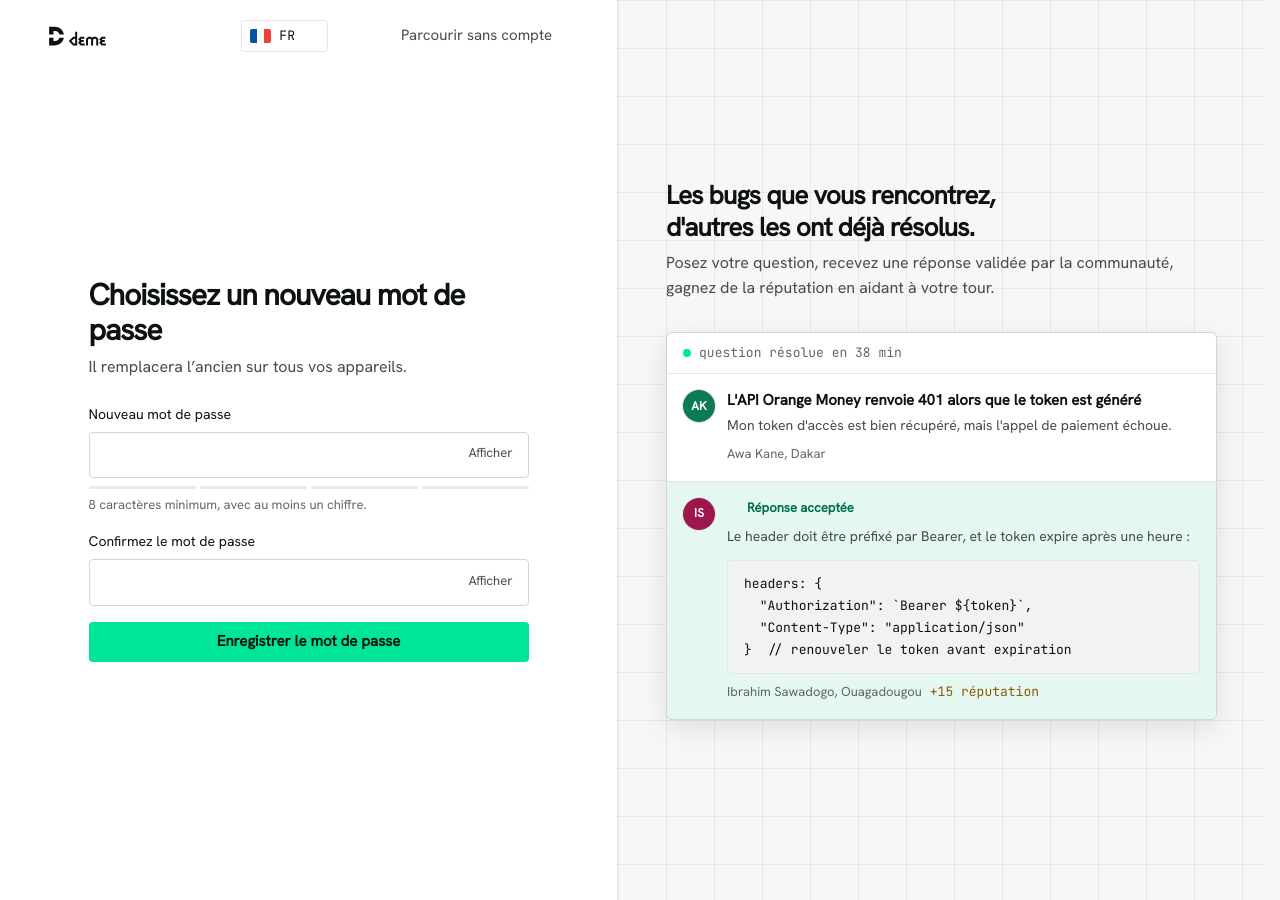
Nouveau mot de passe (AUTH-4) › propose un nouveau lien quand celui-ci a expiré
Type "ouaga2026" into the password field labelled "Nouveau mot de passe".
click(308, 455); type("ouaga2026")  # box [88,432,528,478]
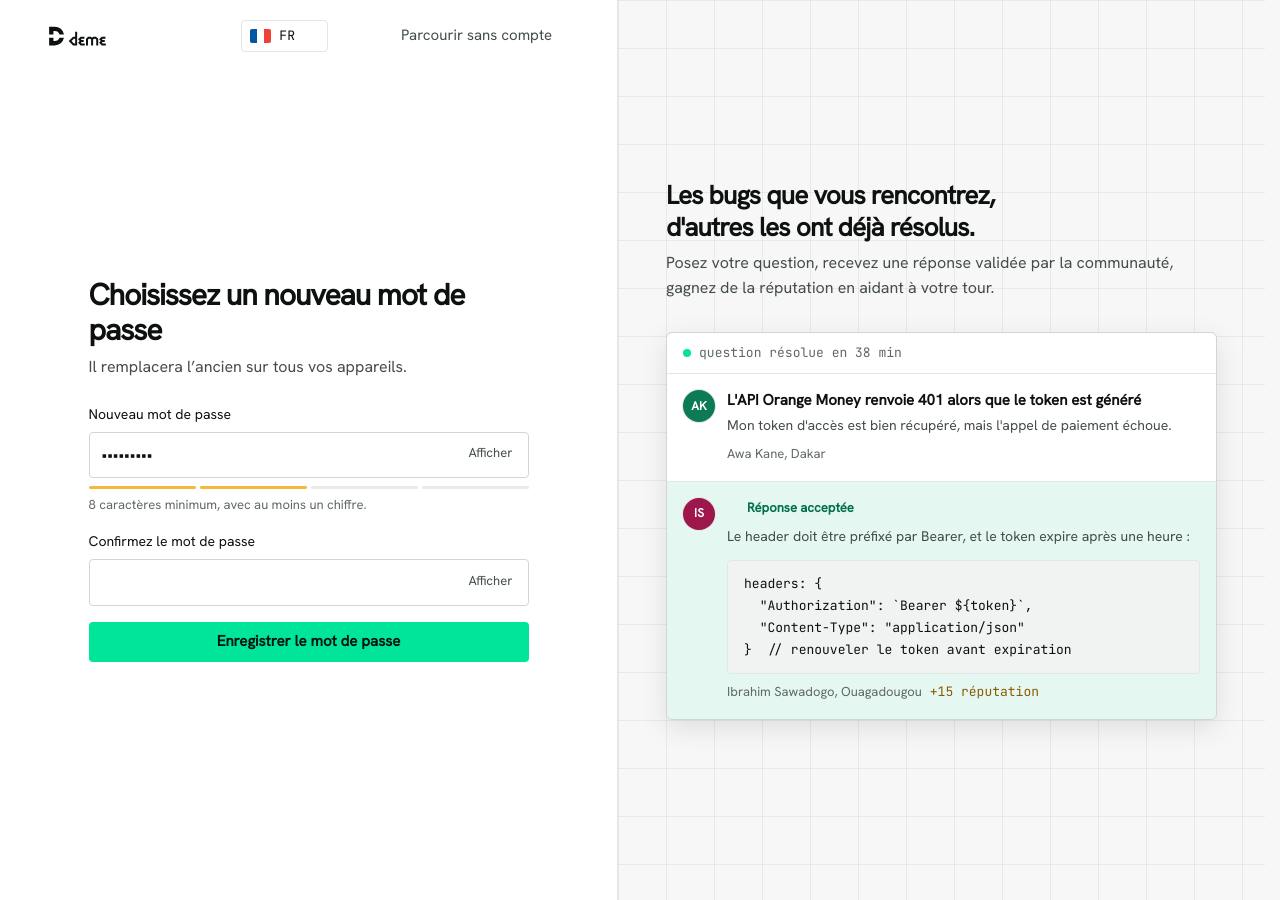
Type "ouaga2026" into the password field labelled "Confirmez le mot de passe".
click(308, 583); type("ouaga2026")  # box [88,559,528,606]
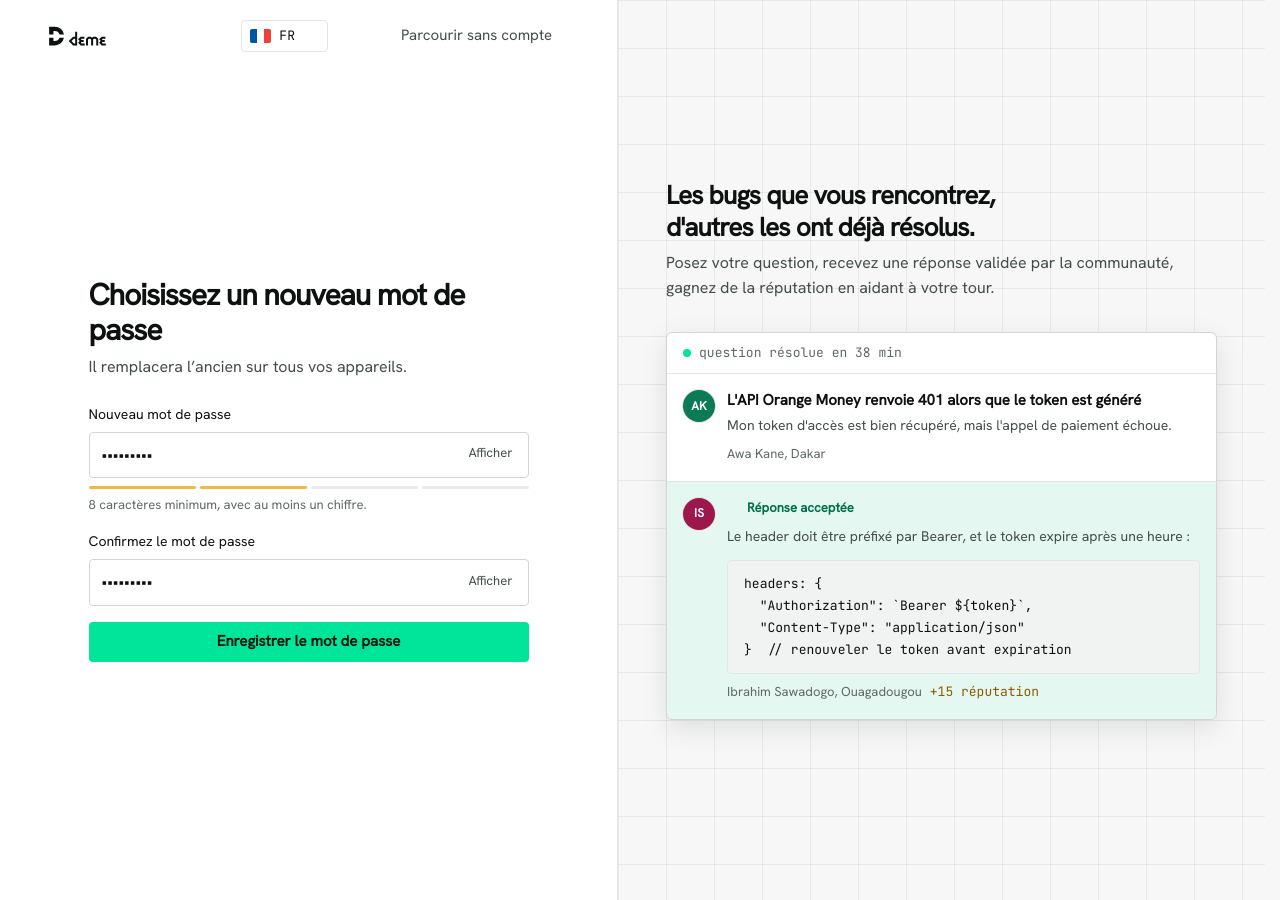
Click the button "Enregistrer le mot de passe".
click(308, 642)  # box [88,622,528,662]
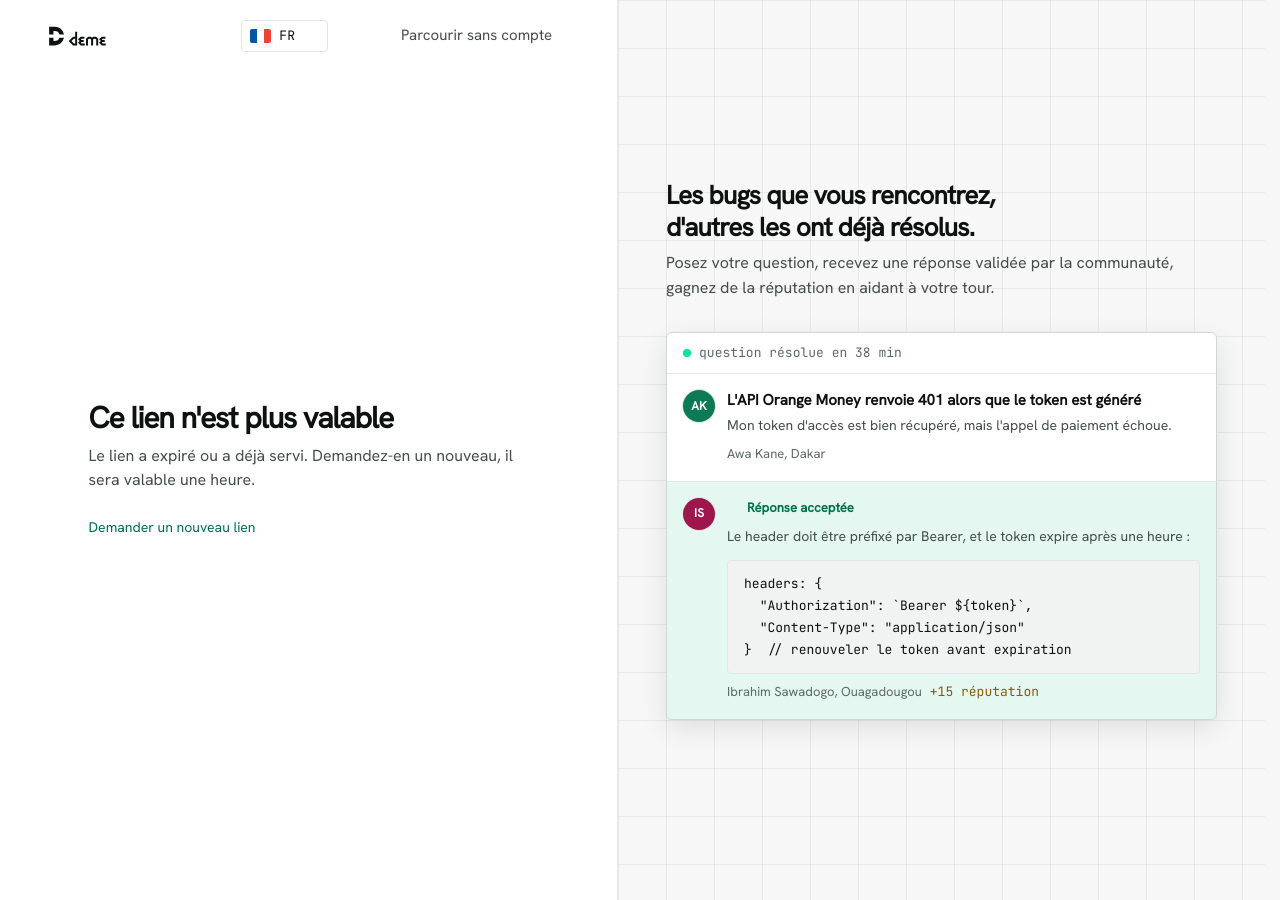
Expected: the heading "Ce lien n'est plus valable" is shown, [88,398,393,437]
Expected: the link "Demander un nouveau lien" is shown, [88,518,256,536]
